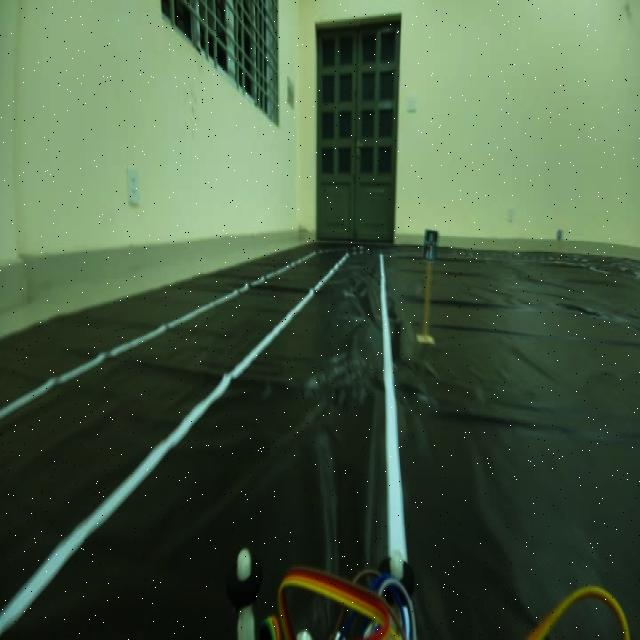highway_exit: (422, 226, 440, 268)
